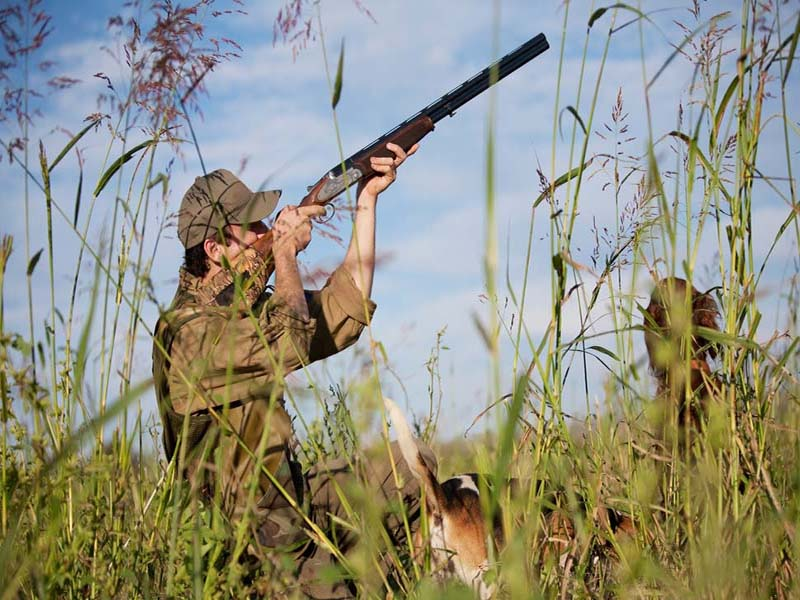cacciatore: (169, 162, 394, 560)
fucile: (222, 22, 584, 310)
